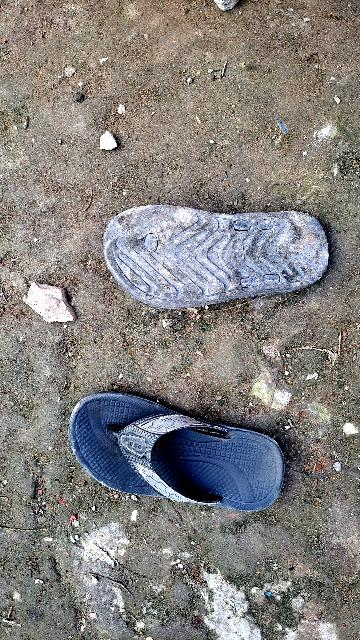sandal: (87, 159, 343, 324), (44, 387, 294, 538)
